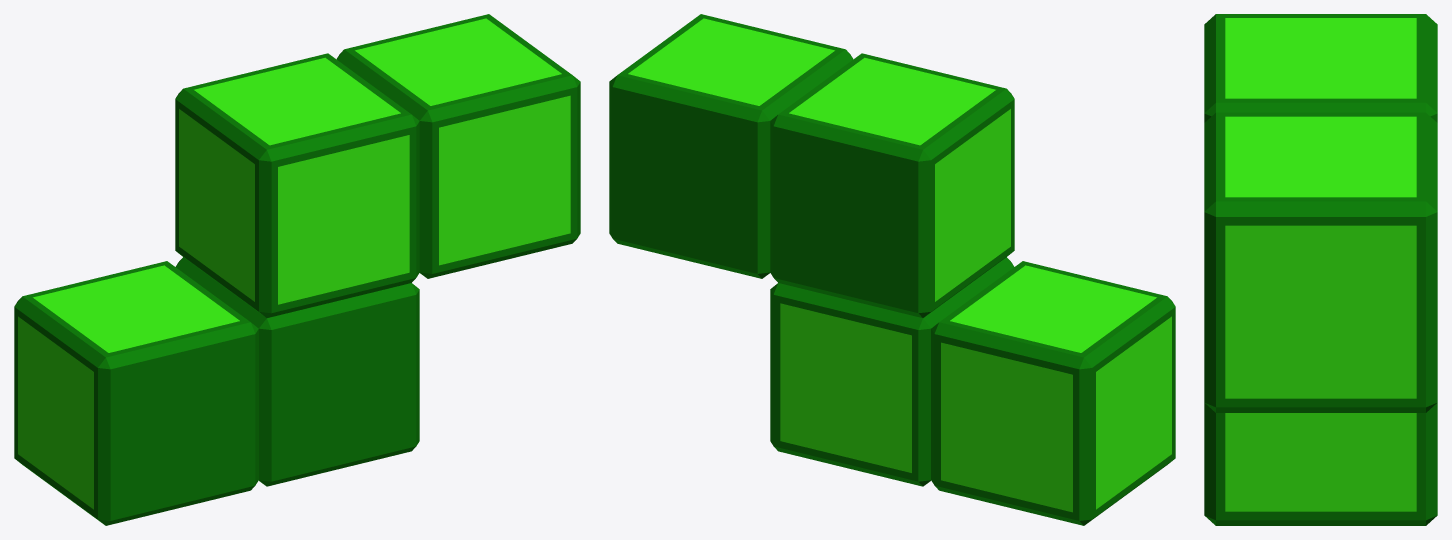
File: fig5_color.obj
3 renders of one model, left to right at view 1: azimuth 30°, elevation 25°; view 2: azimuth 150°, elevation 25°; view 3: azimuth 270°, elevation 25°, orthographic. The views are drawn at different scales.
Visible parts, largest first — view 1: Cube, Cube.003, Cube.002, Cube.001; view 2: Cube, Cube.003, Cube.002, Cube.001; view 3: Cube.002, Cube.001, Cube.
Part boxes in pixels (left/top/right/bottom): Cube: left=175, top=53, right=419, bottom=317; Cube.003: left=14, top=261, right=258, bottom=525; Cube.002: left=336, top=14, right=580, bottom=278; Cube.001: left=175, top=257, right=419, bottom=486; Cube: left=770, top=53, right=1014, bottom=317; Cube.003: left=931, top=261, right=1175, bottom=525; Cube.002: left=609, top=14, right=853, bottom=278; Cube.001: left=770, top=257, right=1014, bottom=486; Cube.002: left=1204, top=112, right=1437, bottom=412; Cube.001: left=1204, top=403, right=1437, bottom=525; Cube: left=1204, top=14, right=1437, bottom=122.
Size of the model in its own units: 6 by 4 by 2.
